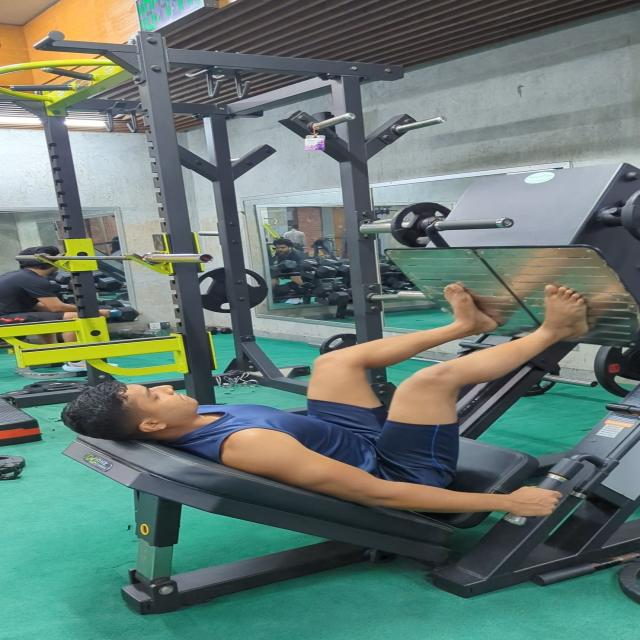Normal_LegPress: (57, 277, 610, 533)
